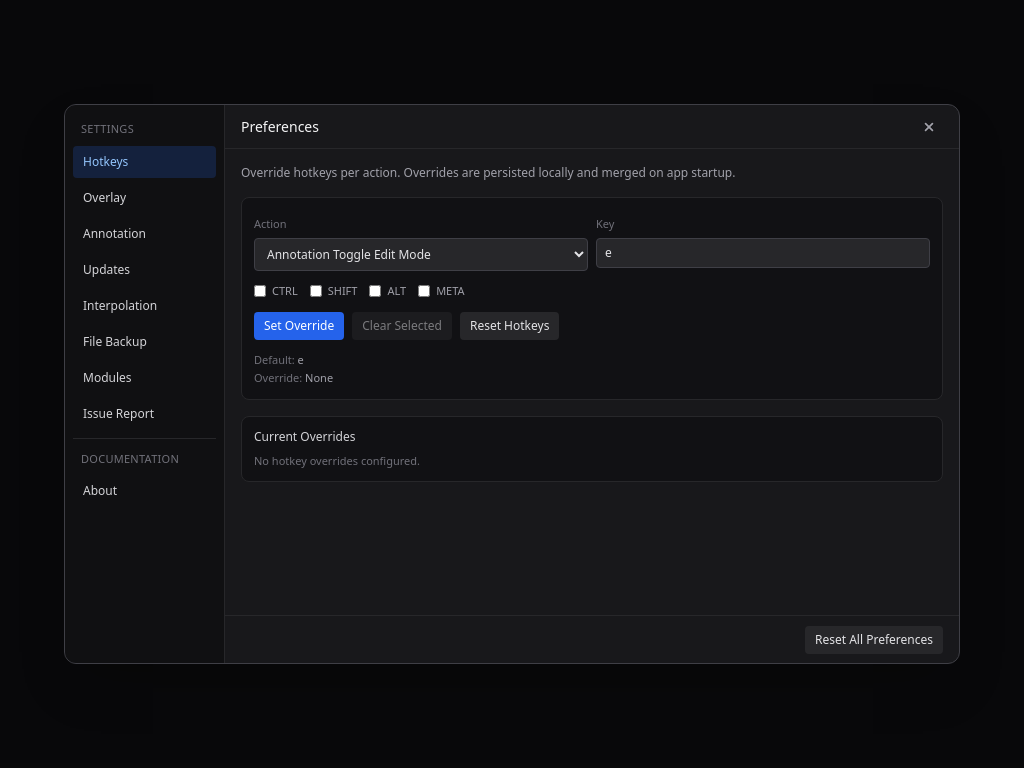
Test: SettingsModal issue report panel › rebuilds on copy and writes latest content to clipboard
The width and height of the screenshot is (1024, 768).
Click the button "Issue Report" at [144, 414], box [73, 398, 216, 430]
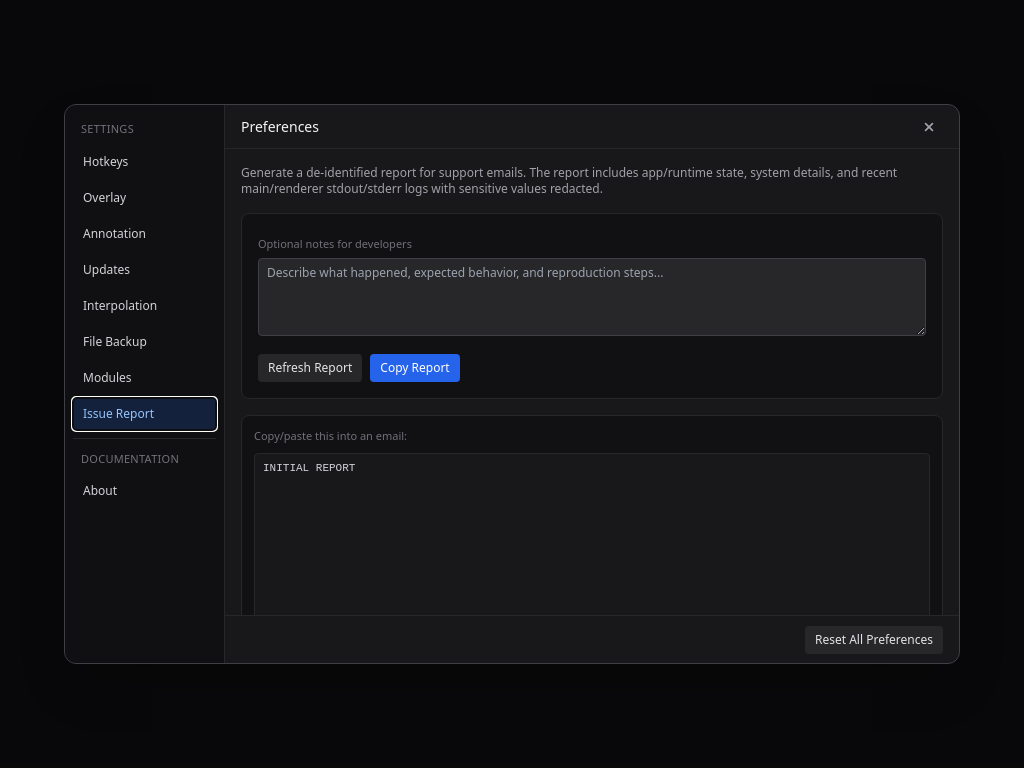
Click the button "Copy Report" at [415, 368], box [370, 354, 460, 382]
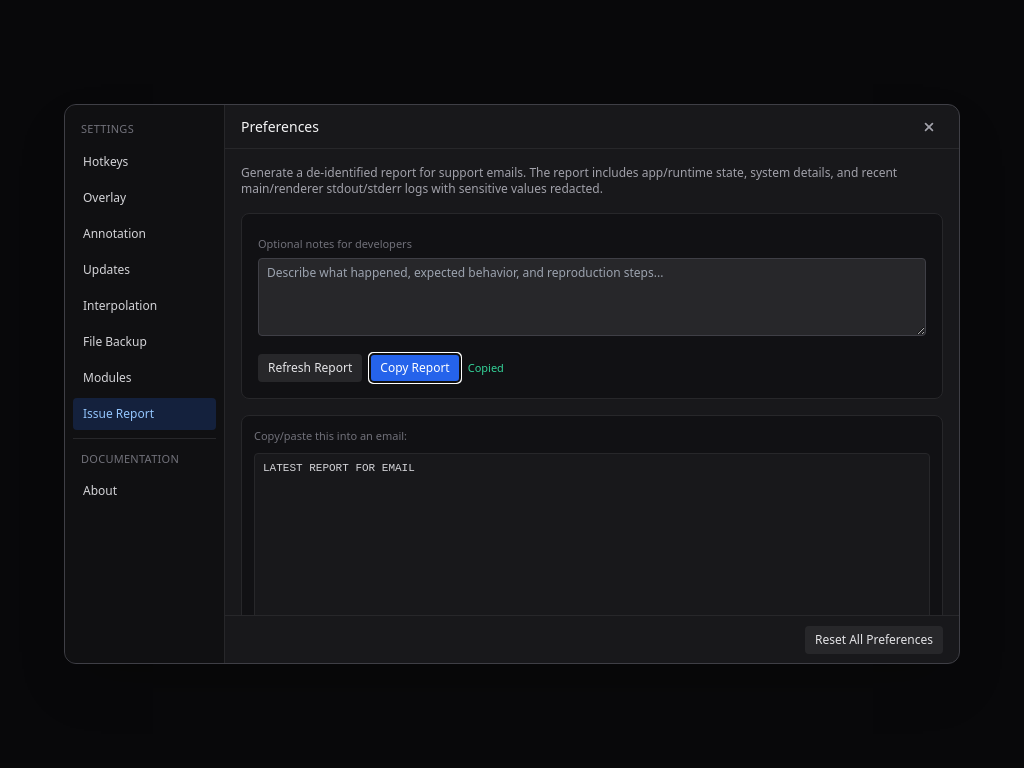
Now the text "Copied" is shown, box [468, 360, 504, 376]
